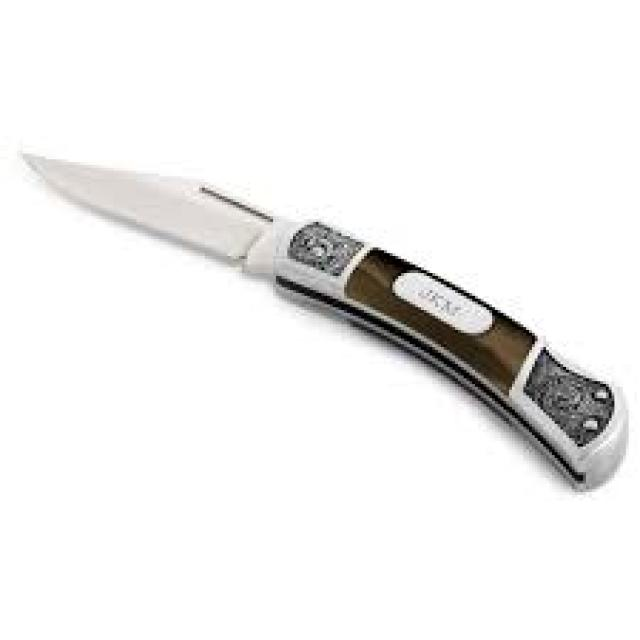knives: (14, 139, 632, 498)
